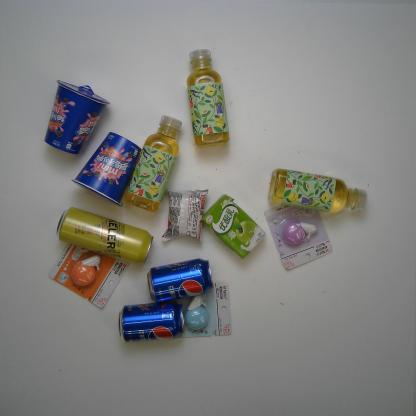Alcohol: (55, 204, 156, 268)
Dessert: (70, 129, 145, 207), (42, 77, 111, 155), (159, 184, 211, 245)
Drink: (124, 113, 184, 212), (266, 168, 367, 215), (185, 46, 229, 148), (145, 257, 215, 304), (118, 302, 185, 344)
Milk: (200, 193, 266, 259)
Stationery: (47, 242, 130, 310), (263, 202, 334, 272), (173, 282, 234, 340)
